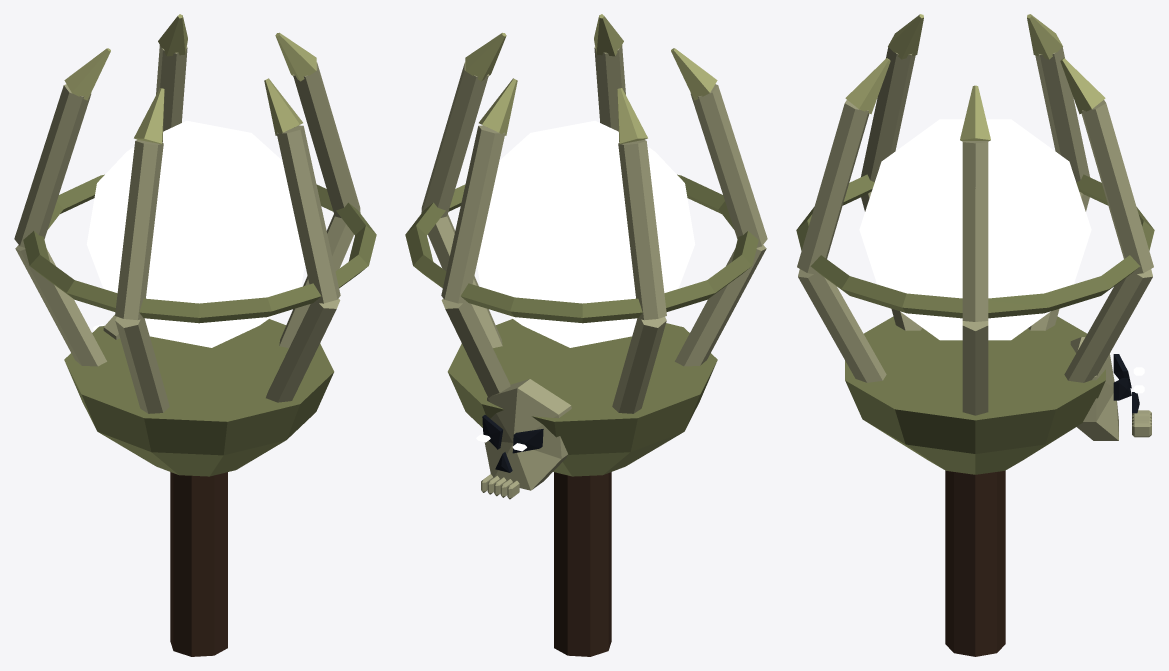
The model's file is necromancer_weapon.glb.
3 renders of one model, left to right at view 1: azimuth 30°, elevation 25°; view 2: azimuth 150°, elevation 25°; view 3: azimuth 270°, elevation 25°, orthographic.
Parts seen in each view (by area): view 1: Necromancer_Weapon_Static; view 2: Necromancer_Weapon_Static; view 3: Necromancer_Weapon_Static.
Boxes of the visible parts, x1,y1,x2,y2 form: Necromancer_Weapon_Static: (14,14,376,656); Necromancer_Weapon_Static: (405,14,767,656); Necromancer_Weapon_Static: (796,14,1154,656).
Size of the model in its own units: 0.3981 by 0.7217 by 0.3918.
